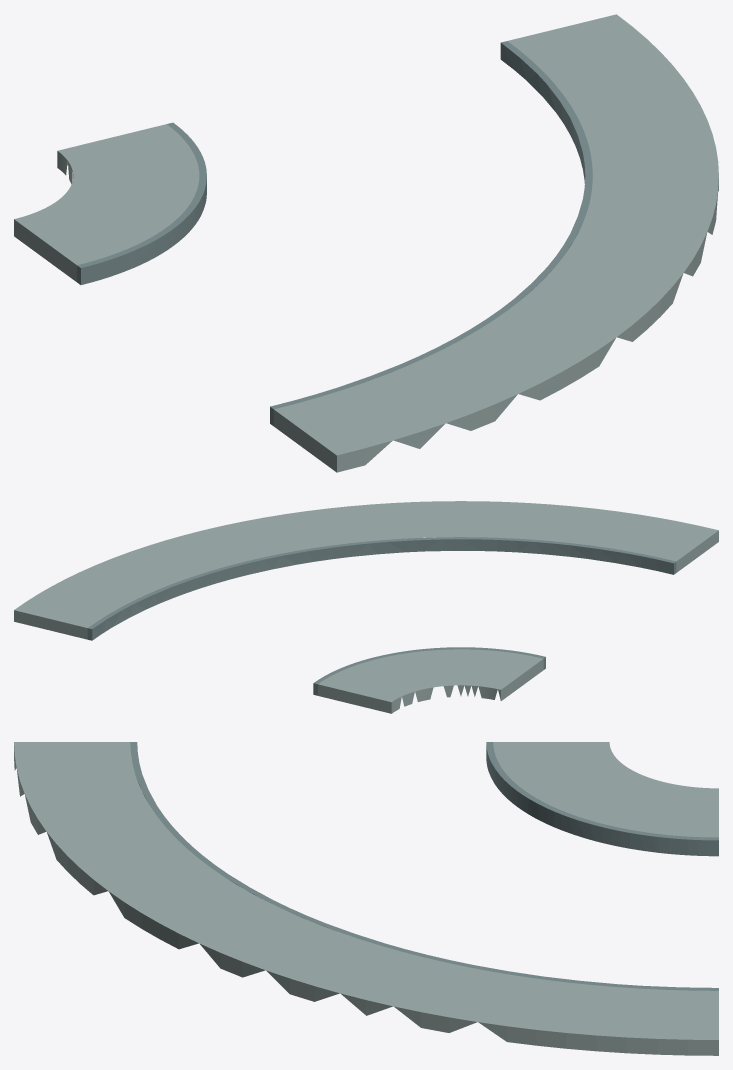
The model's file is RoadPlan_WalkCurve_2L_A90_R7.glb.
3 renders of one model, top to bottom at view 1: azimuth 30°, elevation 25°; view 2: azimuth 150°, elevation 25°; view 3: azimuth 270°, elevation 25°, orthographic. The views are drawn at different scales.
Parts seen in each view (by area): view 1: RoadPlan_WalkCurve_2L_A90_R7_Paving_-1, RoadPlan_WalkCurve_2L_A90_R7_Paving_1, RoadPlan_WalkCurve_2L_A90_R7_Curb_-1, RoadPlan_WalkCurve_2L_A90_R7_Curb_1; view 2: RoadPlan_WalkCurve_2L_A90_R7_Paving_-1, RoadPlan_WalkCurve_2L_A90_R7_Paving_1, RoadPlan_WalkCurve_2L_A90_R7_Curb_-1, RoadPlan_WalkCurve_2L_A90_R7_Curb_1; view 3: RoadPlan_WalkCurve_2L_A90_R7_Paving_-1, RoadPlan_WalkCurve_2L_A90_R7_Paving_1, RoadPlan_WalkCurve_2L_A90_R7_Curb_1, RoadPlan_WalkCurve_2L_A90_R7_Curb_-1.
Boxes of the visible parts, x1,y1,x2,y2 form: RoadPlan_WalkCurve_2L_A90_R7_Paving_-1: [273, 14, 718, 472]; RoadPlan_WalkCurve_2L_A90_R7_Paving_1: [14, 124, 199, 281]; RoadPlan_WalkCurve_2L_A90_R7_Curb_-1: [270, 41, 592, 425]; RoadPlan_WalkCurve_2L_A90_R7_Curb_1: [77, 122, 206, 284]; RoadPlan_WalkCurve_2L_A90_R7_Paving_-1: [14, 501, 718, 639]; RoadPlan_WalkCurve_2L_A90_R7_Paving_1: [318, 649, 543, 713]; RoadPlan_WalkCurve_2L_A90_R7_Curb_-1: [87, 537, 676, 640]; RoadPlan_WalkCurve_2L_A90_R7_Curb_1: [313, 647, 545, 695]; RoadPlan_WalkCurve_2L_A90_R7_Paving_-1: [14, 742, 718, 1055]; RoadPlan_WalkCurve_2L_A90_R7_Paving_1: [493, 742, 718, 837]; RoadPlan_WalkCurve_2L_A90_R7_Curb_1: [486, 742, 718, 856]; RoadPlan_WalkCurve_2L_A90_R7_Curb_-1: [130, 742, 718, 990].
Bounding box in the file's own units: 12.12 × 0.3 × 12.12.
